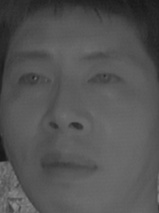eye: (87, 67, 125, 91), (16, 70, 53, 93)
mouth: (39, 146, 99, 184)
